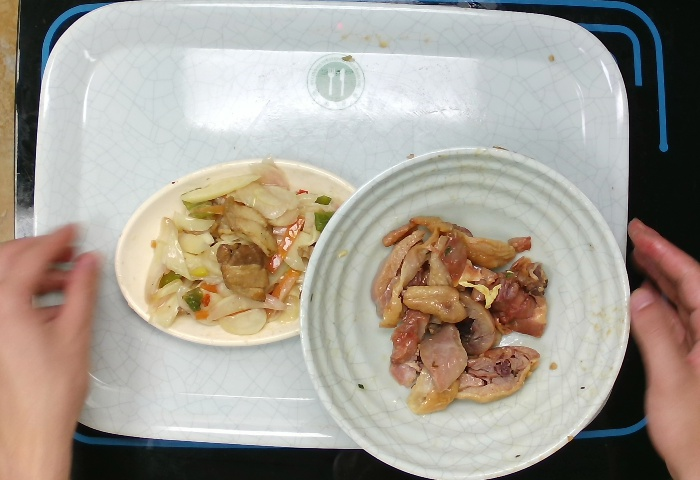JYsf-Da_Tang_Wan: (297, 140, 635, 480)
JYsf-Tuo_Yuan_Wan: (111, 154, 361, 349)
